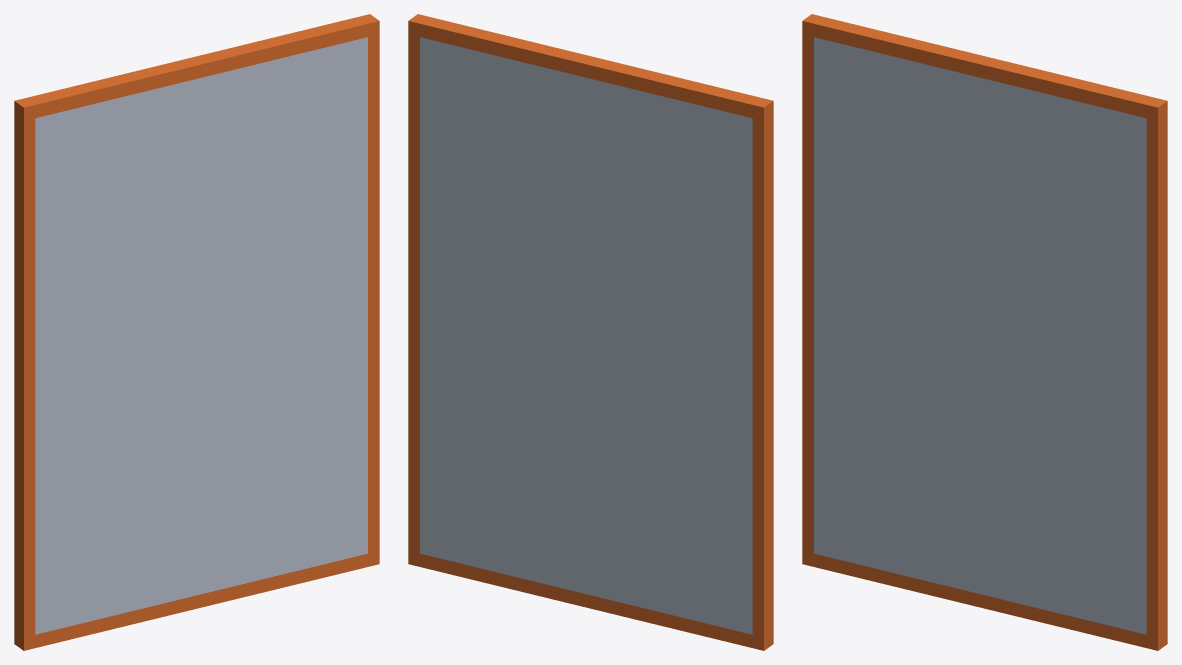
The model's file is Window.fbx.
3 views of the same model, side by side, from view 1: azimuth 30°, elevation 25°; view 2: azimuth 150°, elevation 25°; view 3: azimuth 330°, elevation 25° (orthographic).
Visible parts, largest first — view 1: Window.1; view 2: Window.1; view 3: Window.1.
Boxes of the visible parts, <box> form: Window.1: <box>14,14,379,650</box>; Window.1: <box>408,14,773,650</box>; Window.1: <box>802,14,1167,650</box>.
Size of the model in its own units: 95.33 by 139 by 4.39.
